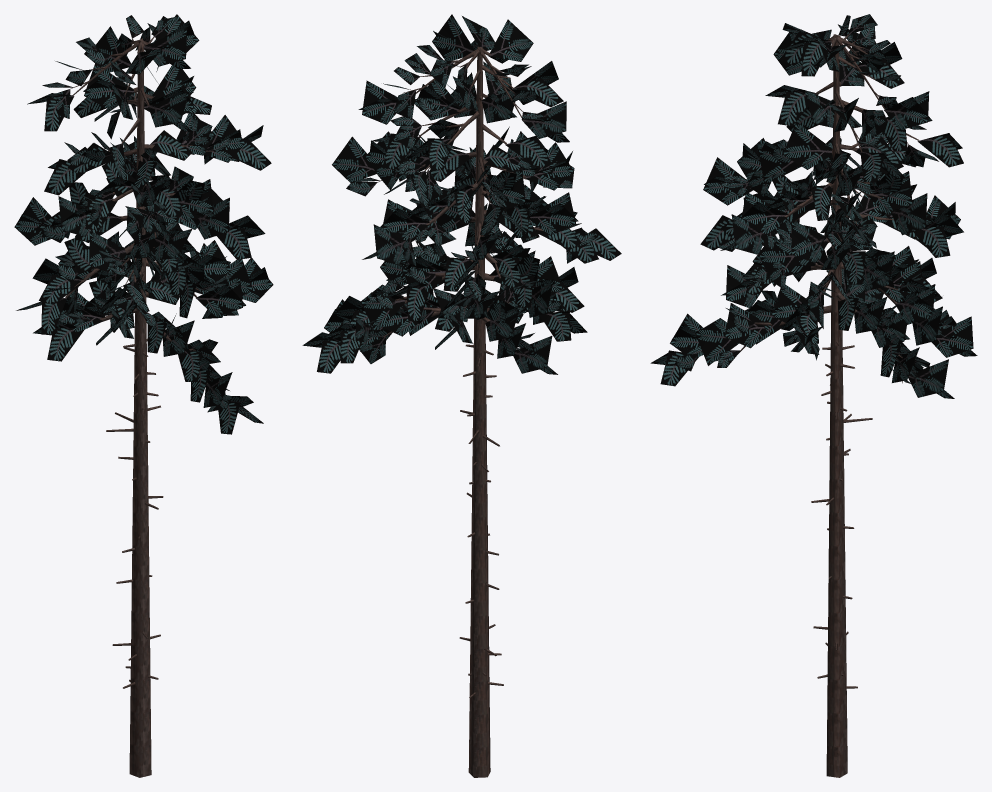
File: Pine_02.fbx
3 views of the same model, side by side, from view 1: azimuth 30°, elevation 25°; view 2: azimuth 150°, elevation 25°; view 3: azimuth 270°, elevation 25° (orthographic).
Visible parts, largest first — view 1: LOD0; view 2: LOD0; view 3: LOD0.
Boxes of the visible parts, left/top/right/bottom form: LOD0: left=14, top=14, right=273, bottom=777; LOD0: left=302, top=14, right=621, bottom=777; LOD0: left=650, top=14, right=977, bottom=777.
Size of what is drawn, in the model's own units: 279 by 821 by 323.
